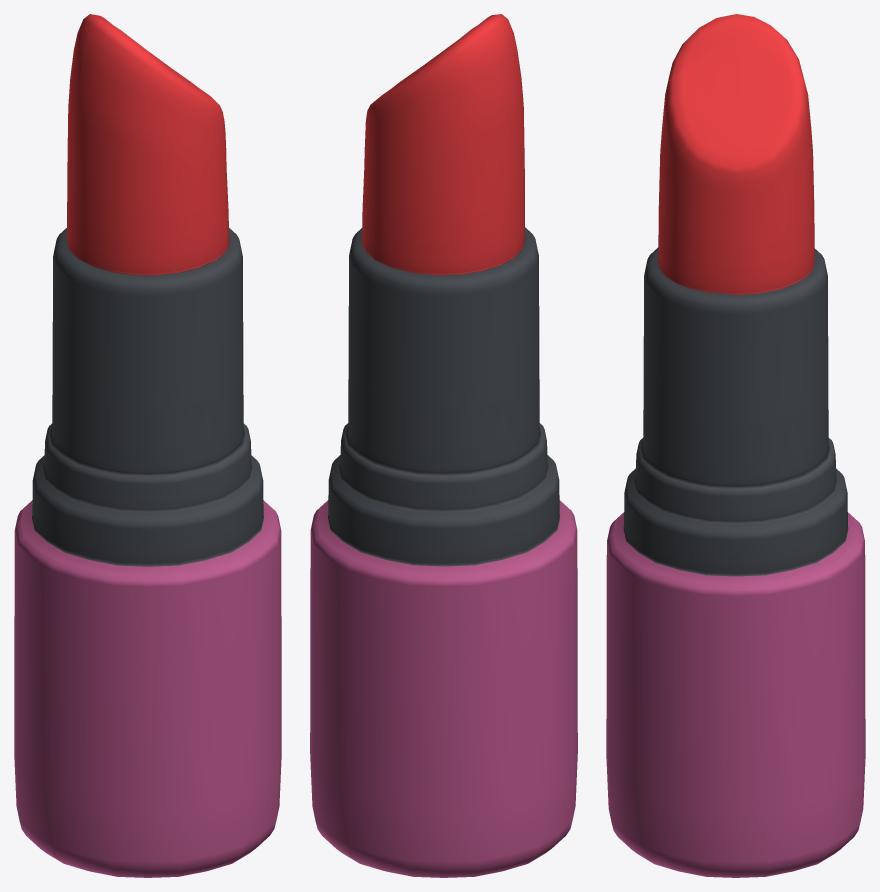
Rendered from lipstic.glb.
3 renders of one model, left to right at view 1: azimuth 30°, elevation 25°; view 2: azimuth 150°, elevation 25°; view 3: azimuth 270°, elevation 25°, orthographic. The views are drawn at different scales.
Visible parts, largest first — view 1: node_id30; view 2: node_id30; view 3: node_id30.
Part boxes in pixels (<box>): node_id30: <box>14,14,281,877</box>; node_id30: <box>310,14,577,877</box>; node_id30: <box>606,14,865,877</box>.
Bounding box in the file's own units: 0.1505 × 0.512 × 0.1505.
Materials: 1 (1 with a texture image).
